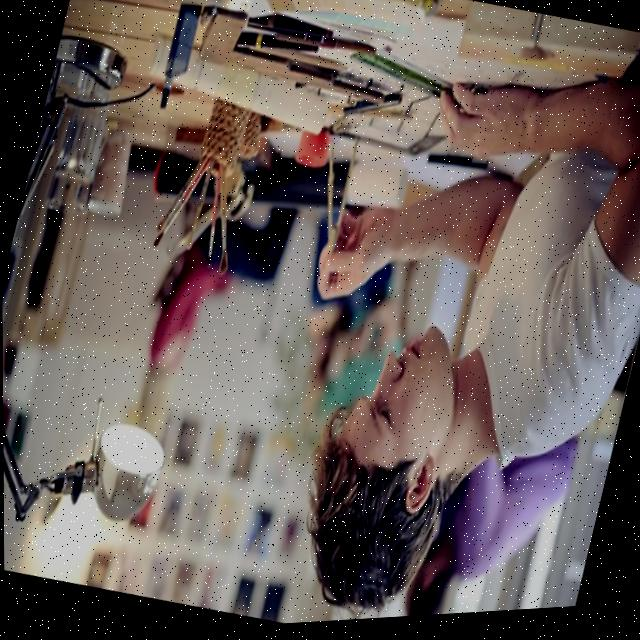studying-person: (43, 0, 640, 638)
